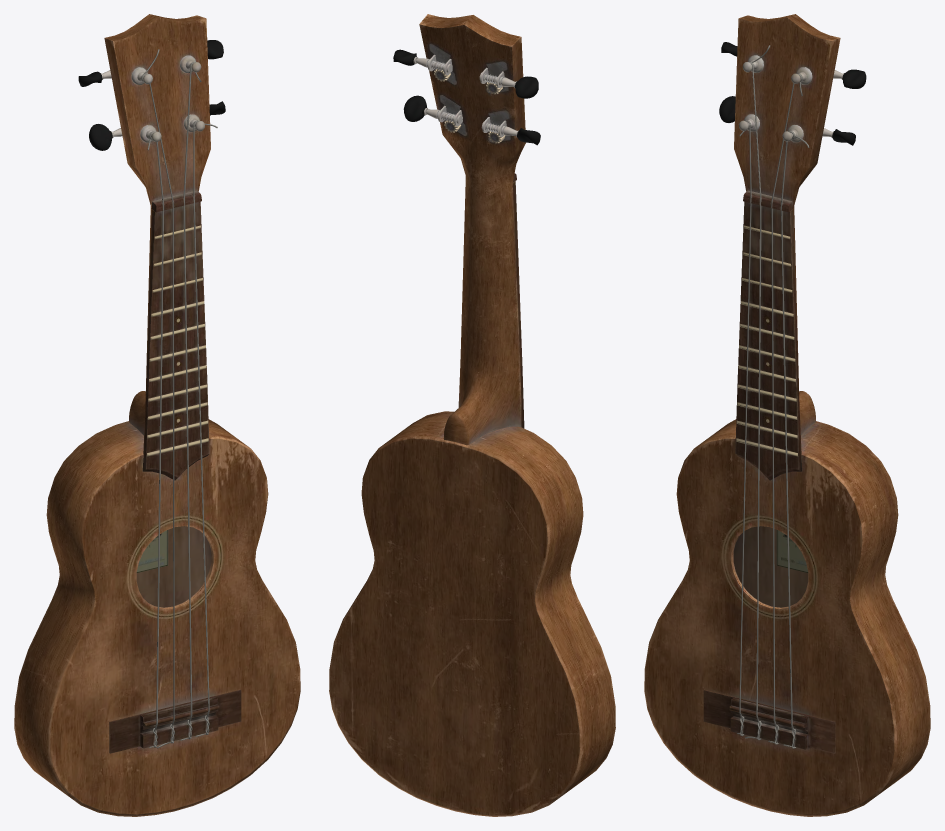
File: Ukulele_01.glb
3 views of the same model, side by side, from view 1: azimuth 30°, elevation 25°; view 2: azimuth 150°, elevation 25°; view 3: azimuth 330°, elevation 25° (orthographic).
Parts seen in each view (by area): view 1: Ukulele_01; view 2: Ukulele_01; view 3: Ukulele_01.
Part boxes in pixels (x1,y1,x2,y2): Ukulele_01: [14, 14, 300, 816]; Ukulele_01: [329, 14, 615, 816]; Ukulele_01: [644, 14, 930, 816].
Bounding box in the file's own units: 0.1779 × 0.527 × 0.0508.
1 material, 1 textured.
